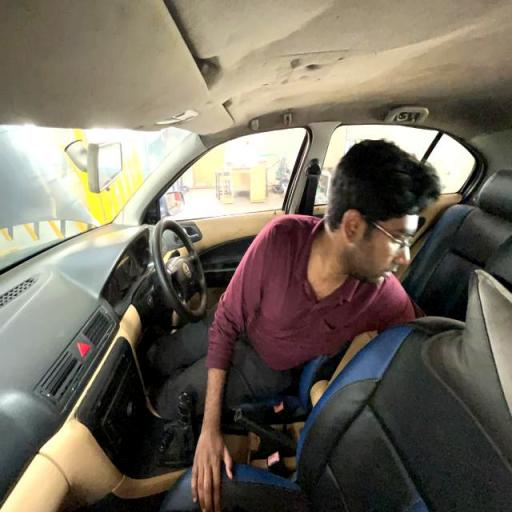Reaching_behind: (164, 139, 449, 440)
